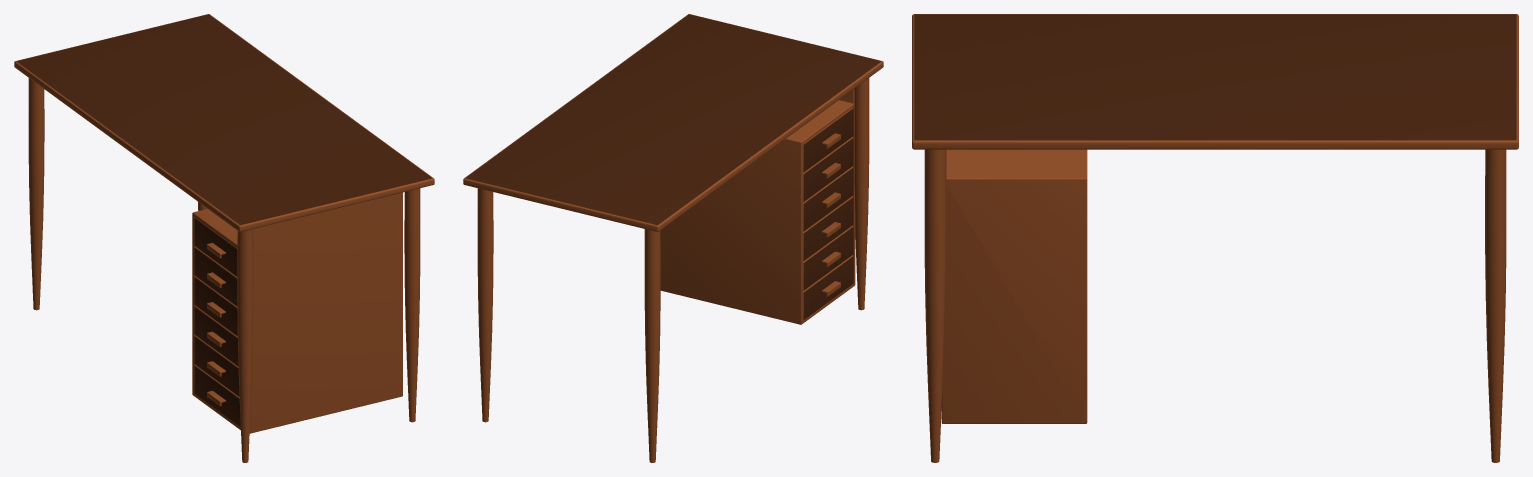
The model's file is desk.fbx.
3 renders of one model, left to right at view 1: azimuth 30°, elevation 25°; view 2: azimuth 150°, elevation 25°; view 3: azimuth 270°, elevation 25°, orthographic. The views are drawn at different scales.
Parts seen in each view (by area): view 1: desk_body; view 2: desk_body; view 3: desk_body.
Part boxes in pixels (x1,y1,x2,y2): desk_body: (14, 14, 434, 462); desk_body: (463, 14, 883, 462); desk_body: (912, 14, 1518, 462).
Size of the model in its own units: 115 by 137 by 230.
1 material, 1 textured.
